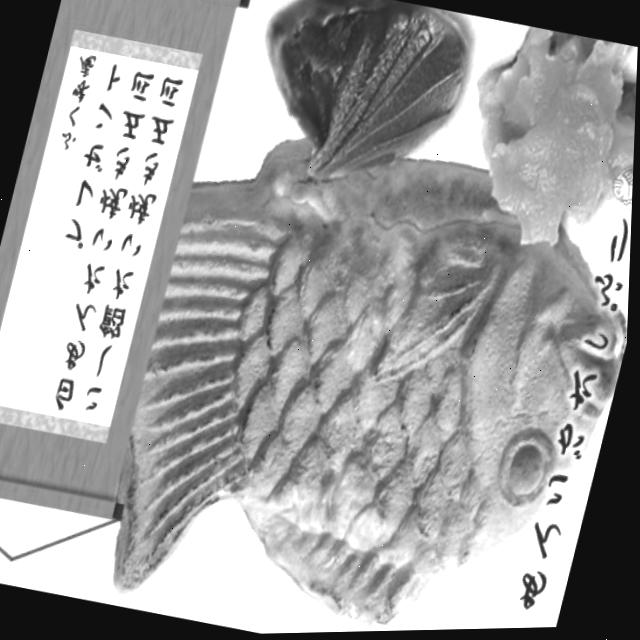熟制海鲜: (90, 72, 638, 638)
